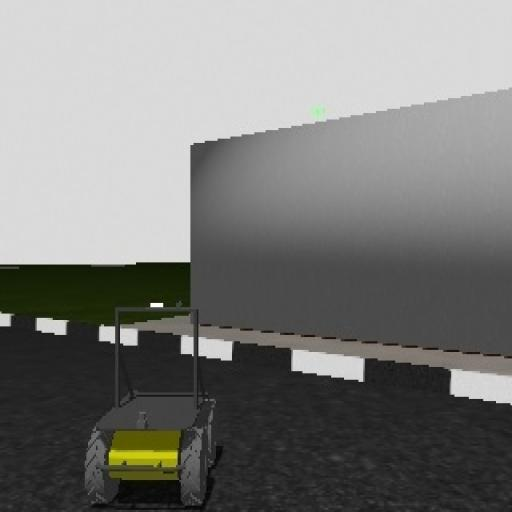huskya200: (85, 301, 219, 512)
